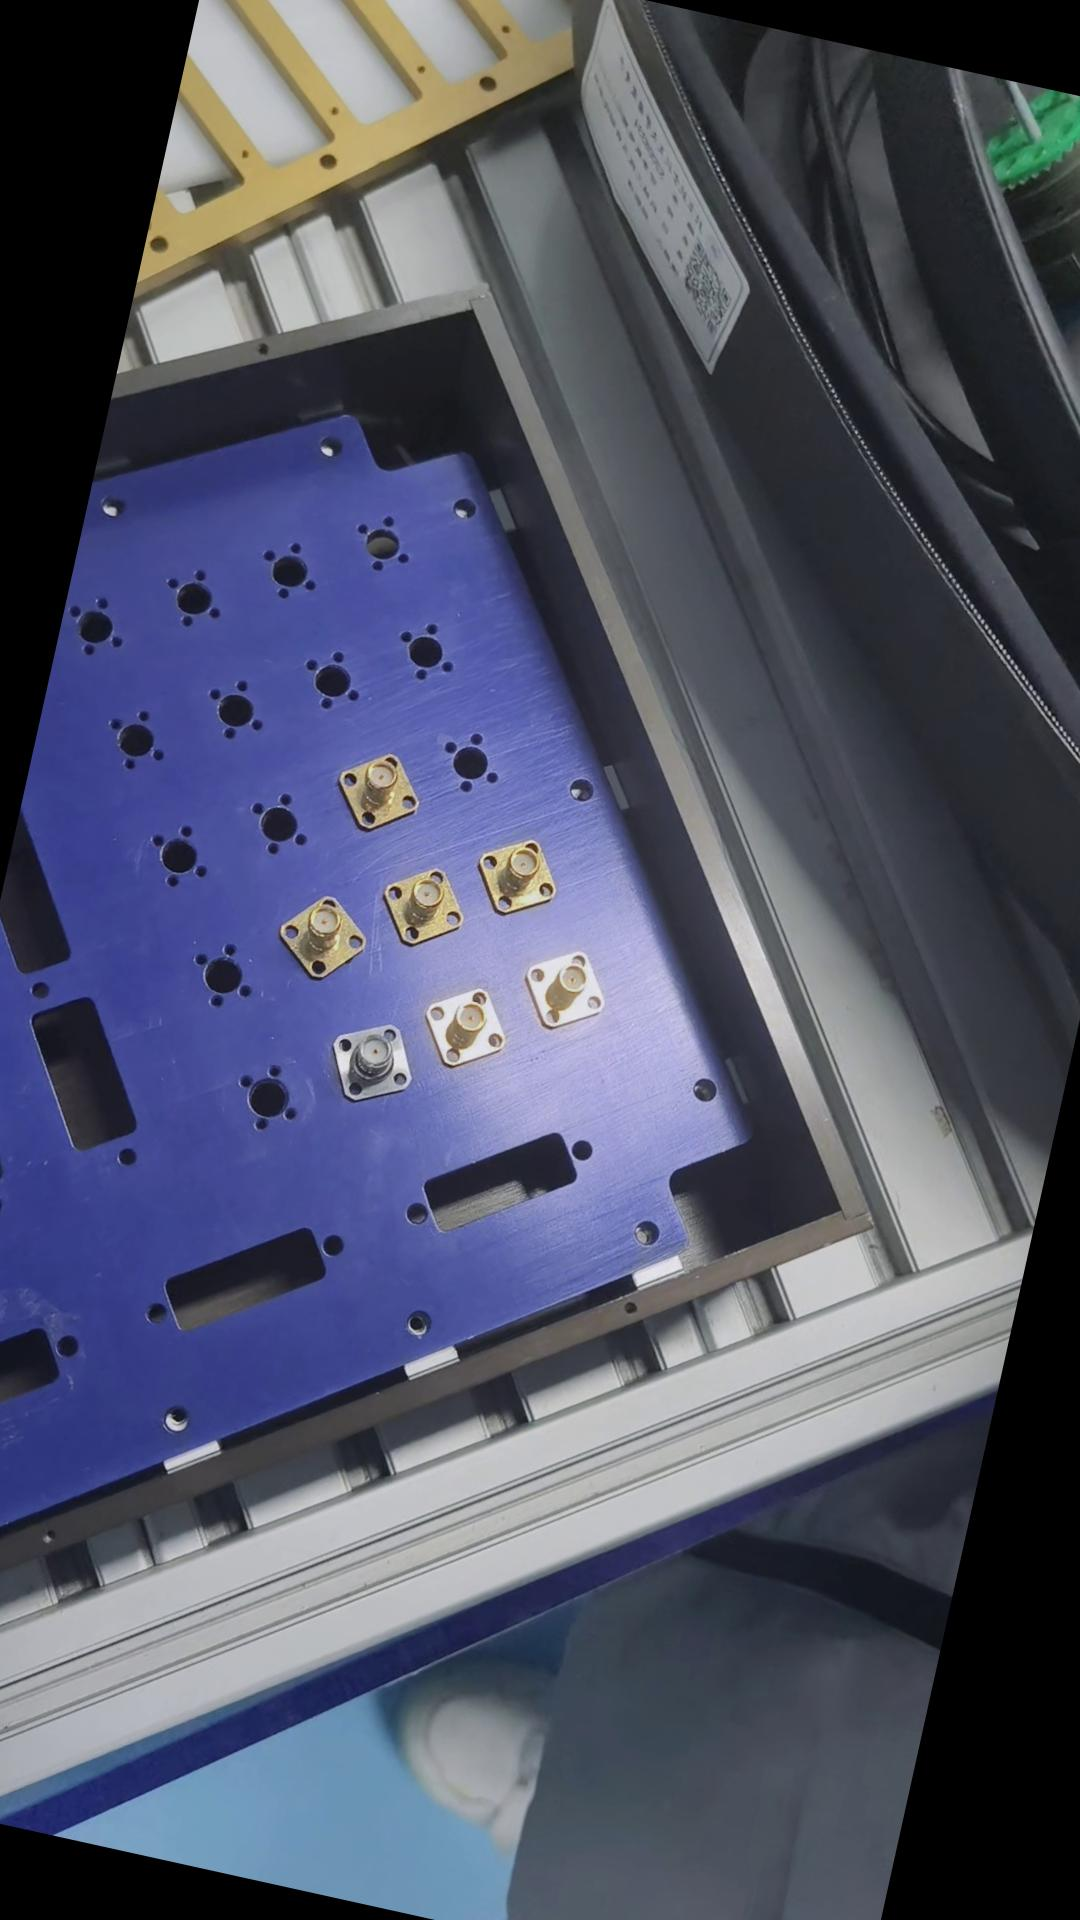SMA: (316, 1009, 421, 1117), (265, 884, 369, 985), (369, 851, 467, 955), (324, 744, 426, 841), (410, 972, 506, 1075), (516, 938, 611, 1039), (464, 824, 560, 923)
